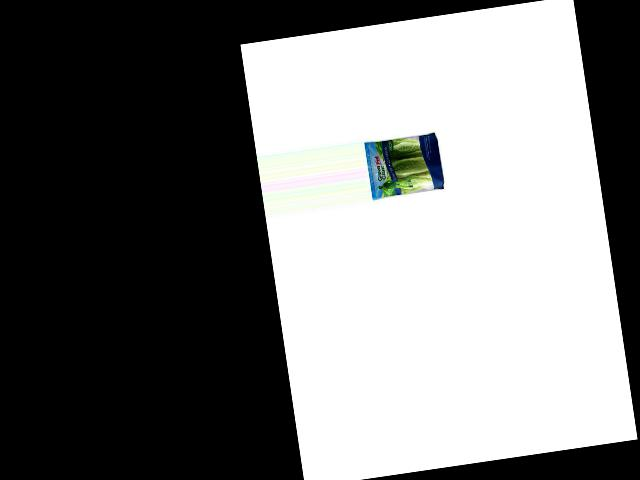lettuce: (367, 131, 448, 201)
